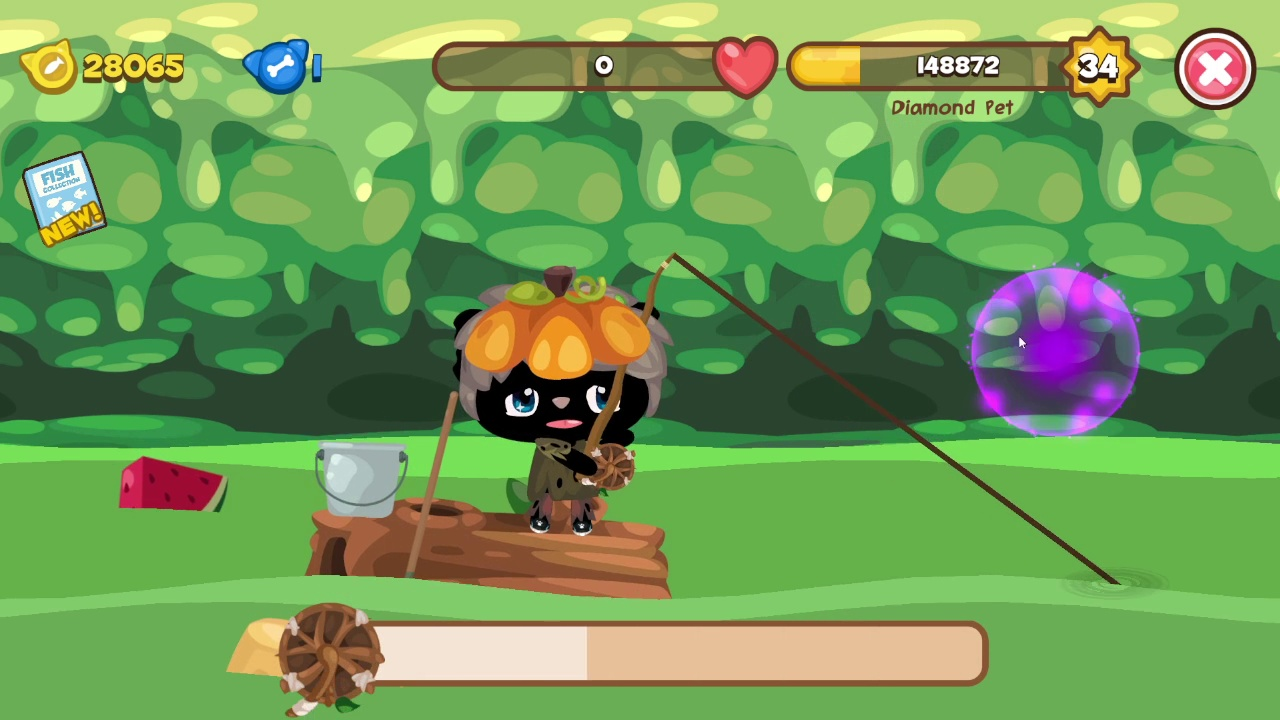point: (969, 266, 1143, 439)
